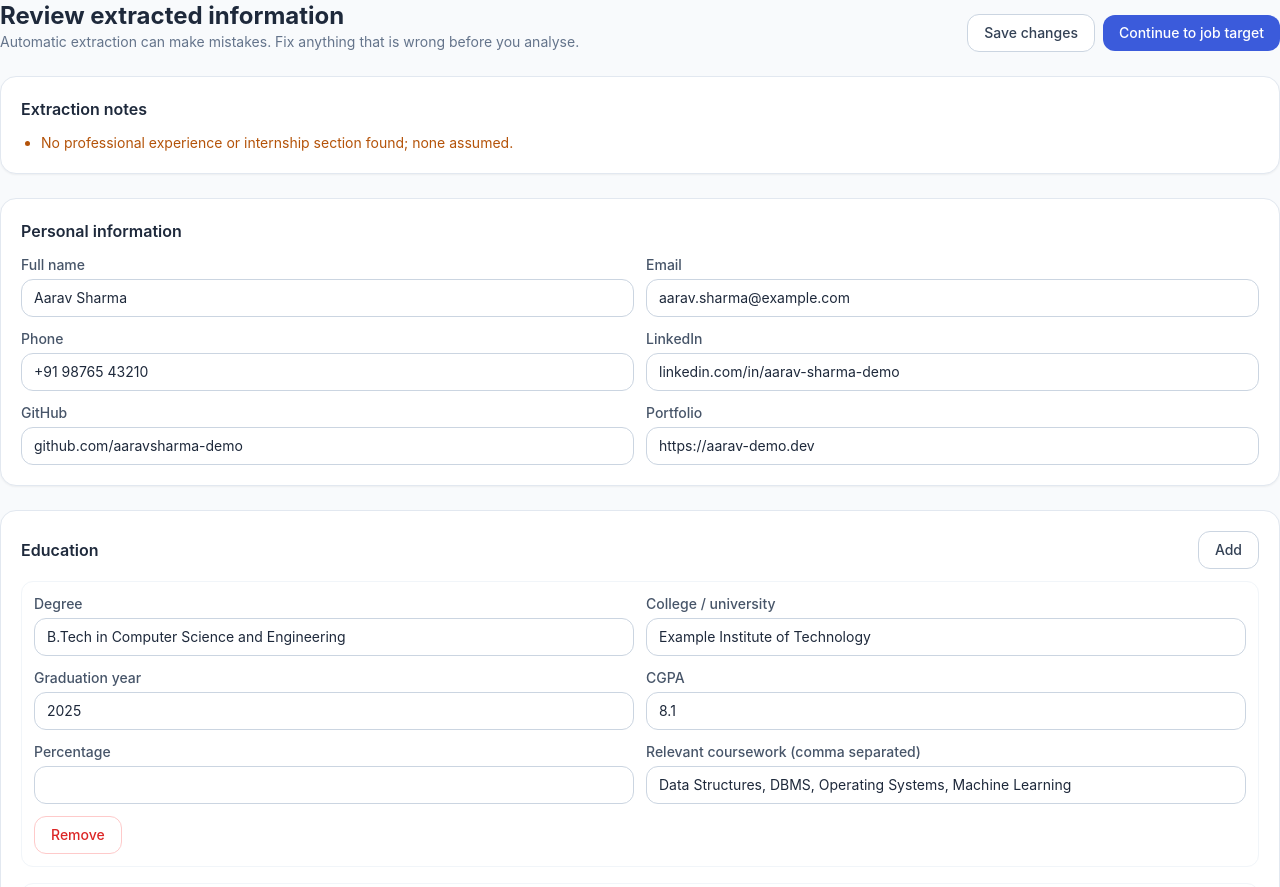
Test: review extracted information › saves user corrections to the backend
This screenshot has width=1280, height=887.
Step 1. Replace the text in the field showing "Aarav Sharma" with "Aarav K. Sharma" → (328, 298), box [21, 279, 634, 317]
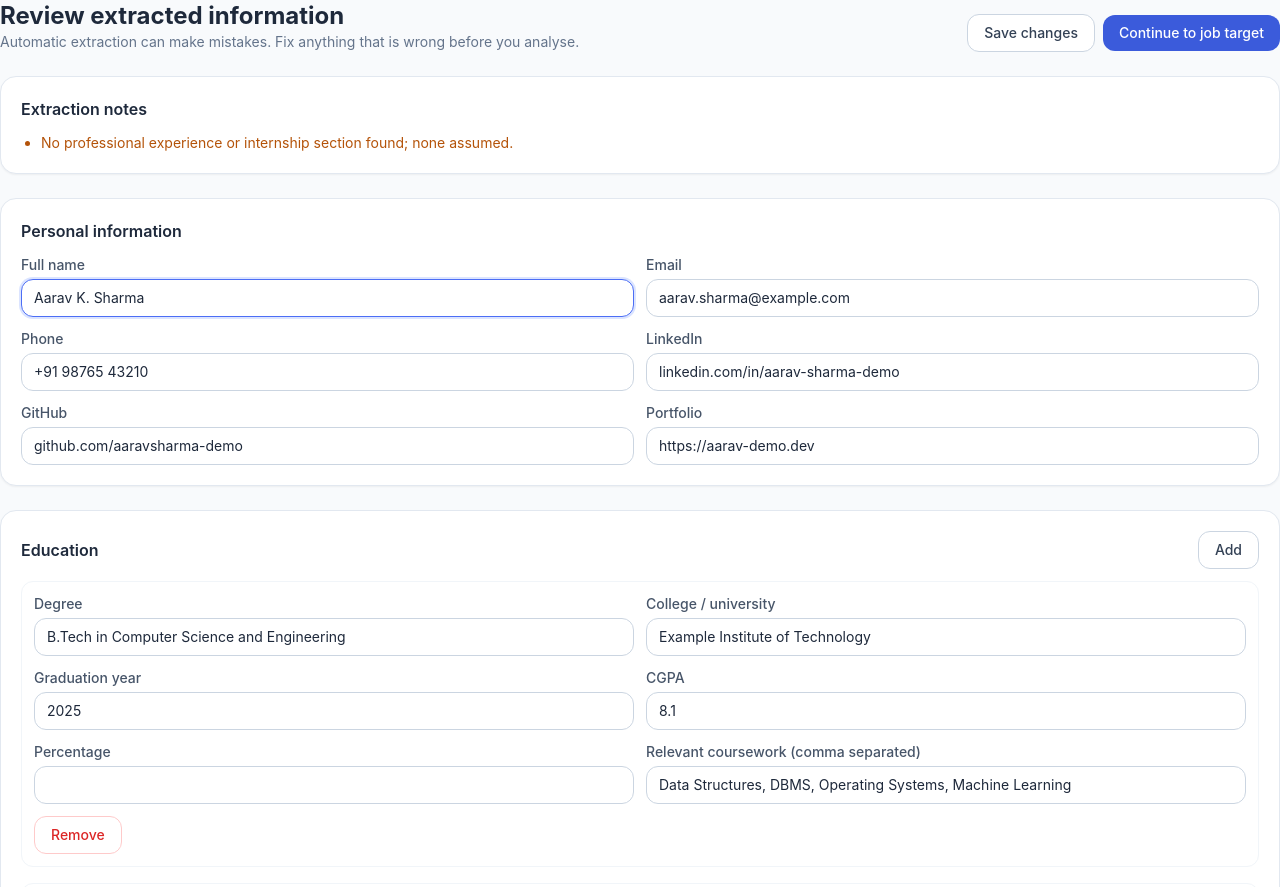
Step 2. Click the button "Save changes" → (1031, 33), box [967, 14, 1095, 52]
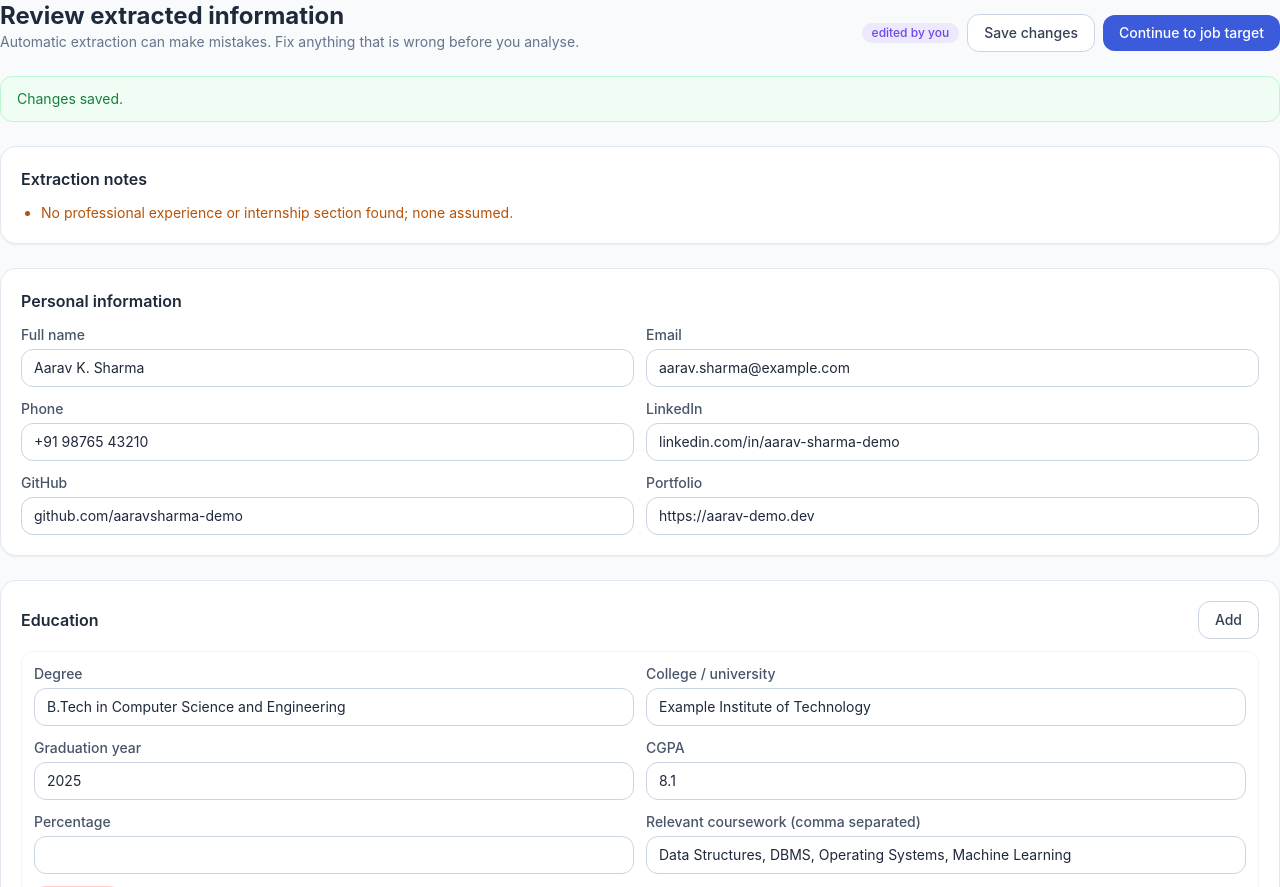
Expected: the text "Changes saved." is shown, [0, 76, 1279, 122]
Expected: the text "edited by you" is shown, [862, 23, 959, 43]
